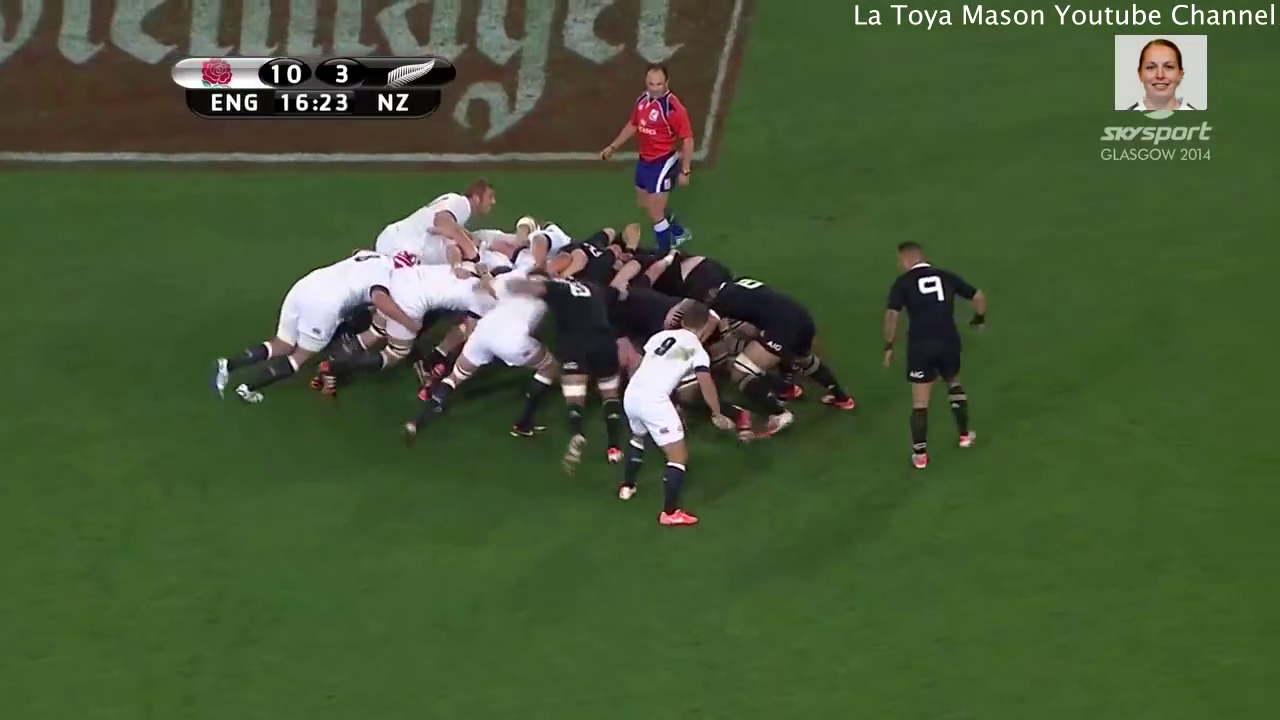player: (201, 237, 419, 416), (865, 234, 1000, 488), (709, 276, 873, 444), (409, 260, 557, 440), (512, 259, 637, 471), (612, 300, 722, 540), (593, 61, 707, 261), (358, 170, 496, 264)
scrum: (225, 196, 851, 444)
